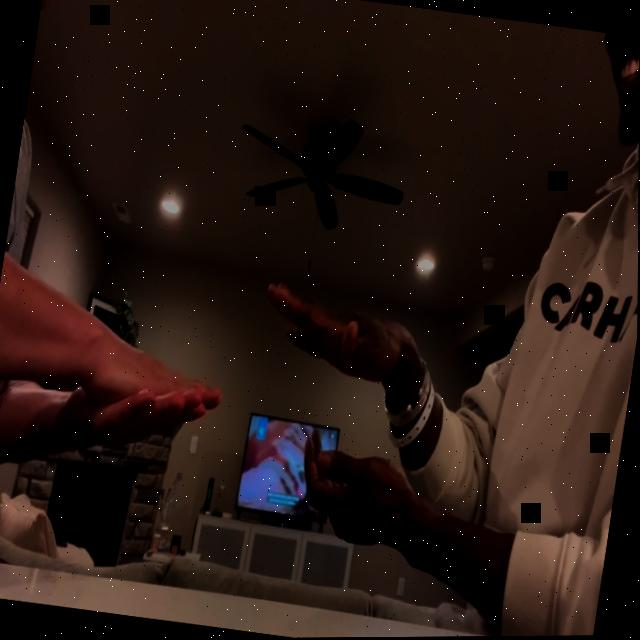Paper: (258, 281, 413, 388), (90, 327, 212, 412)
